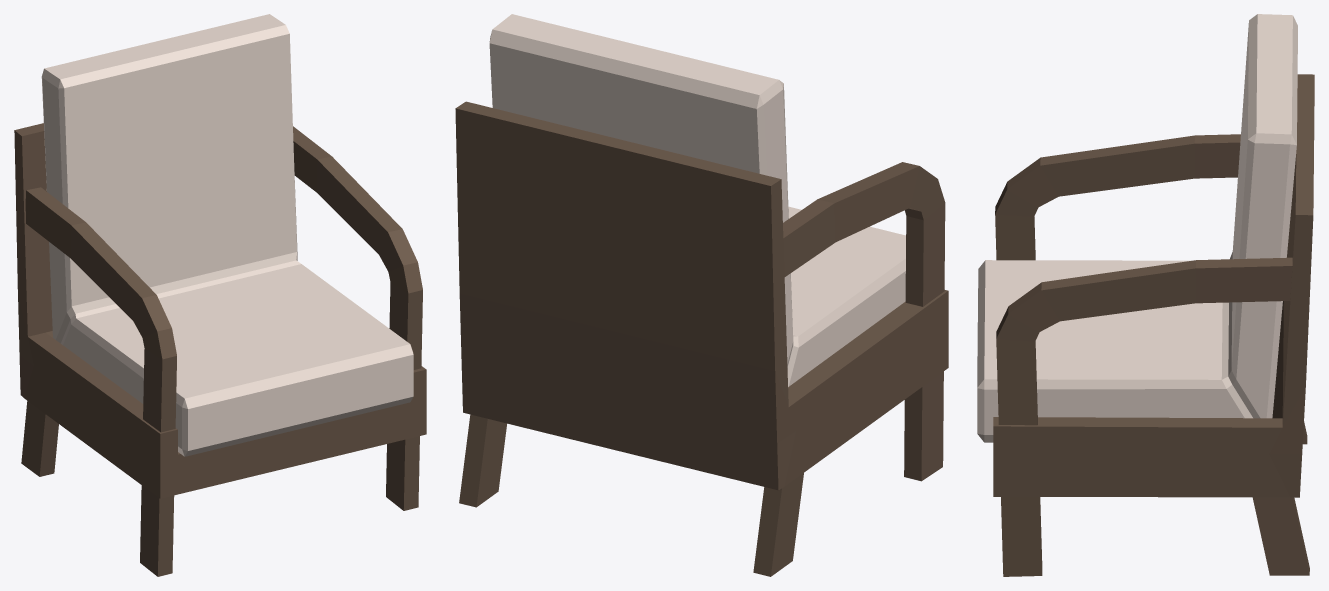
File: Chair_1.fbx
3 renders of one model, left to right at view 1: azimuth 30°, elevation 25°; view 2: azimuth 150°, elevation 25°; view 3: azimuth 270°, elevation 25°, orthographic. The views are drawn at different scales.
Visible parts, largest first — view 1: Chair_1; view 2: Chair_1; view 3: Chair_1.
Boxes of the visible parts, x1=… form: Chair_1: x1=14, y1=14, x2=426, y2=576; Chair_1: x1=455, y1=14, x2=948, y2=576; Chair_1: x1=977, y1=14, x2=1314, y2=576.
Bounding box in the file's own units: 89.55 × 90.21 × 130.
